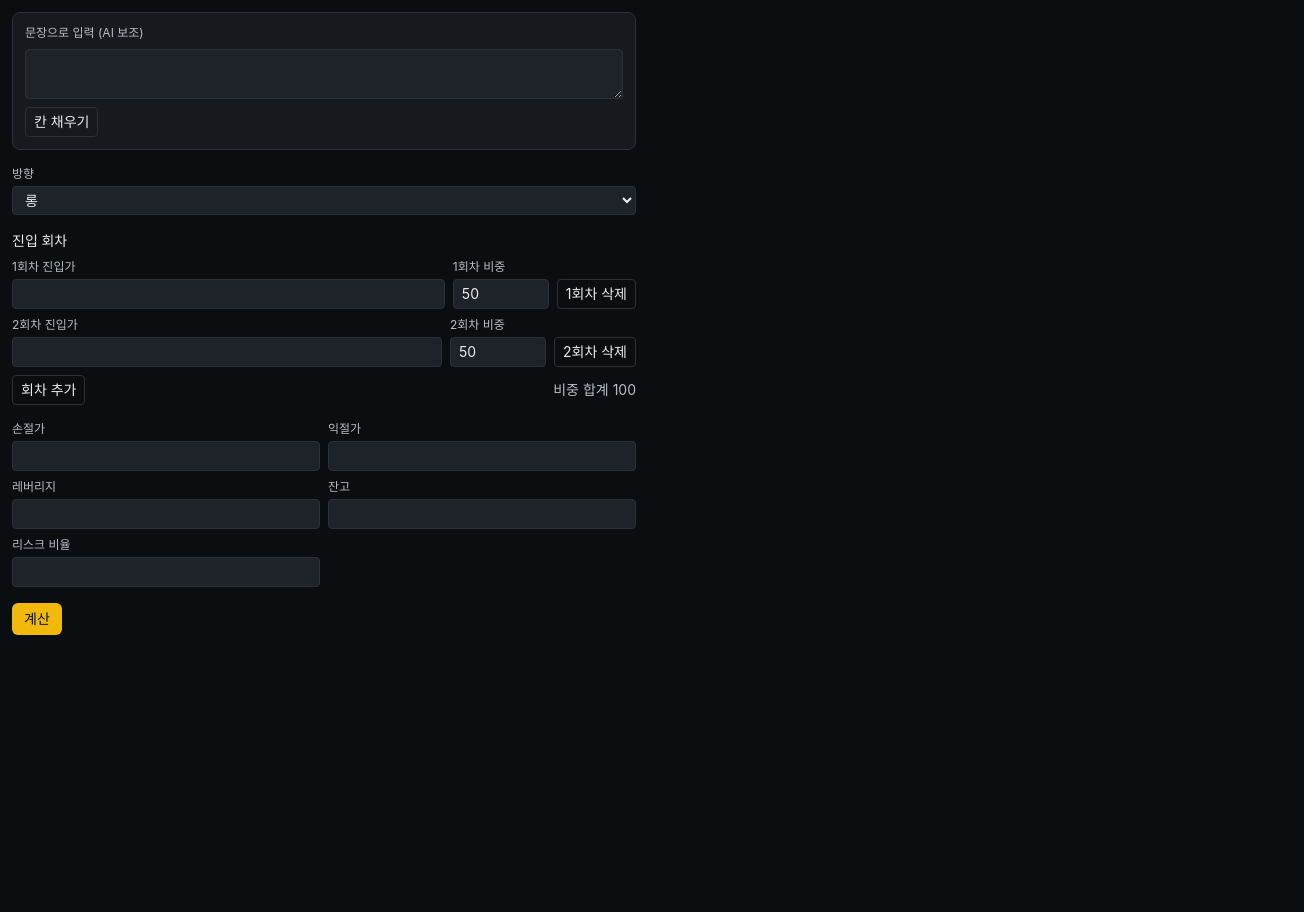
Scenario: 계획 초안 (AI 보조) › AI 가 꺼져 있어도 계획 계산은 그대로 된다
Step 1. Click the button "칸 채우기" → (62, 122), box [25, 107, 98, 137]
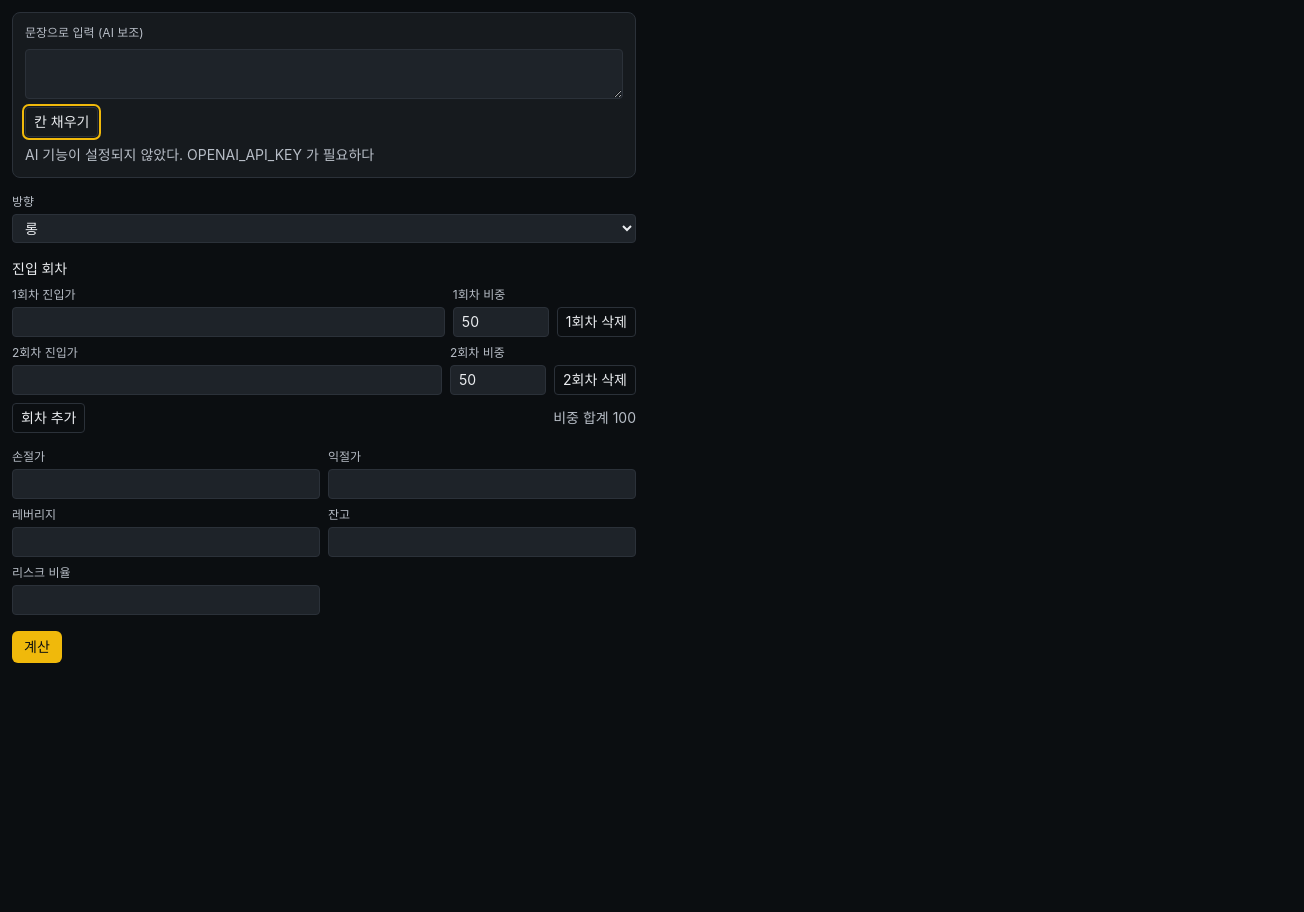
Now the message shows "OPENAI_API_KEY 가 필요하다", box [25, 146, 374, 163]
AI 실패로 계획을 못 세우는 일이 있으면 안 된다.
Step 2. Click the button "계산" → (37, 647), box [12, 631, 62, 663]
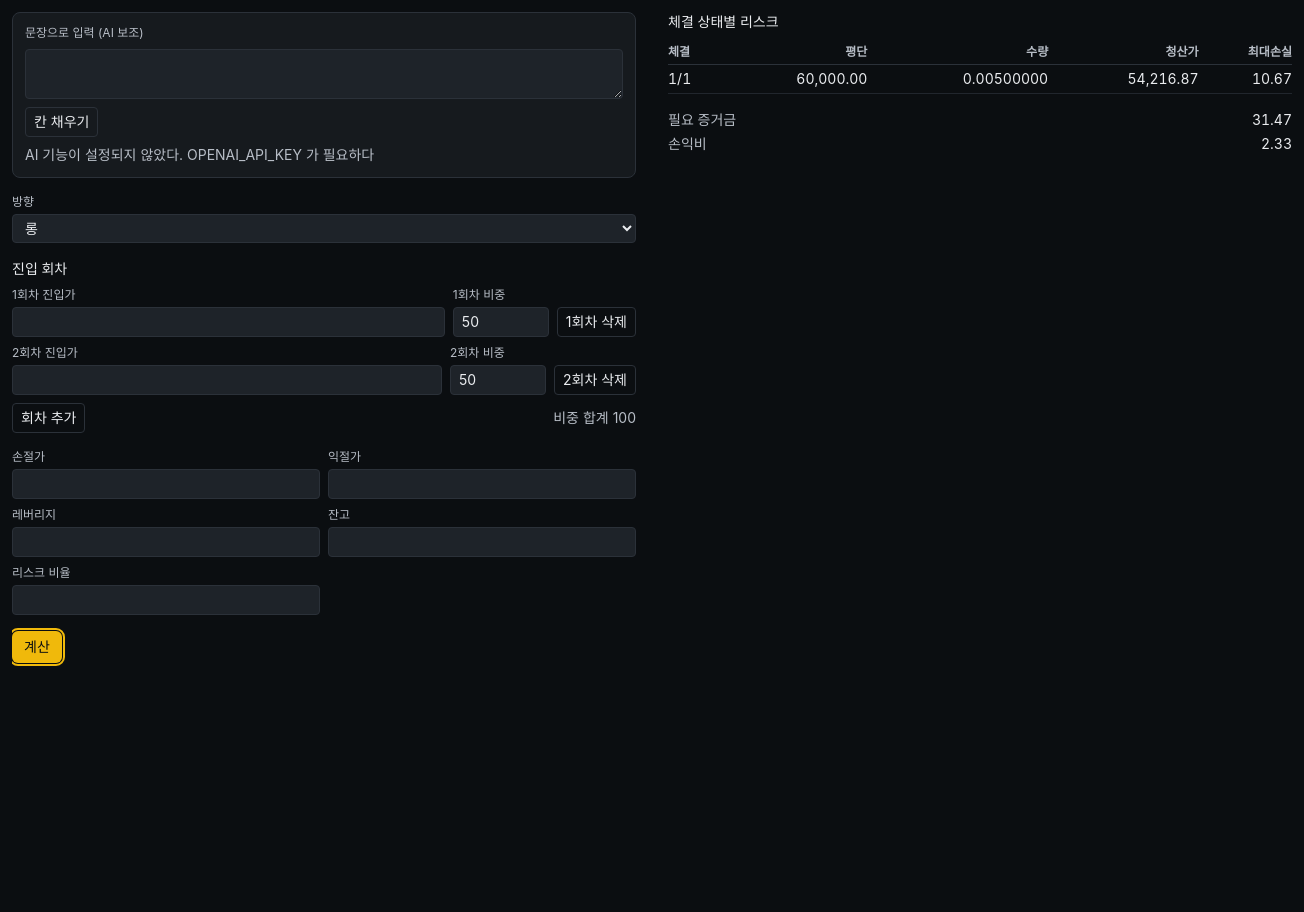
Now the text "54,216.87" is shown, box [1048, 64, 1198, 94]
